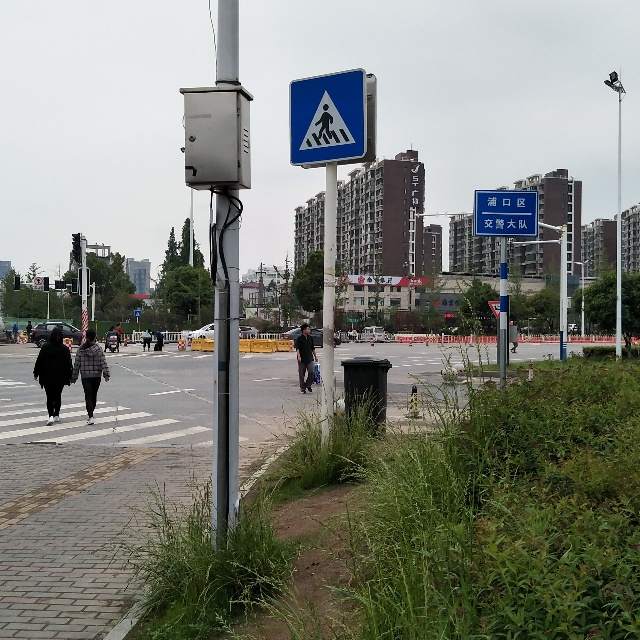crosswalk: (294, 84, 367, 155)
